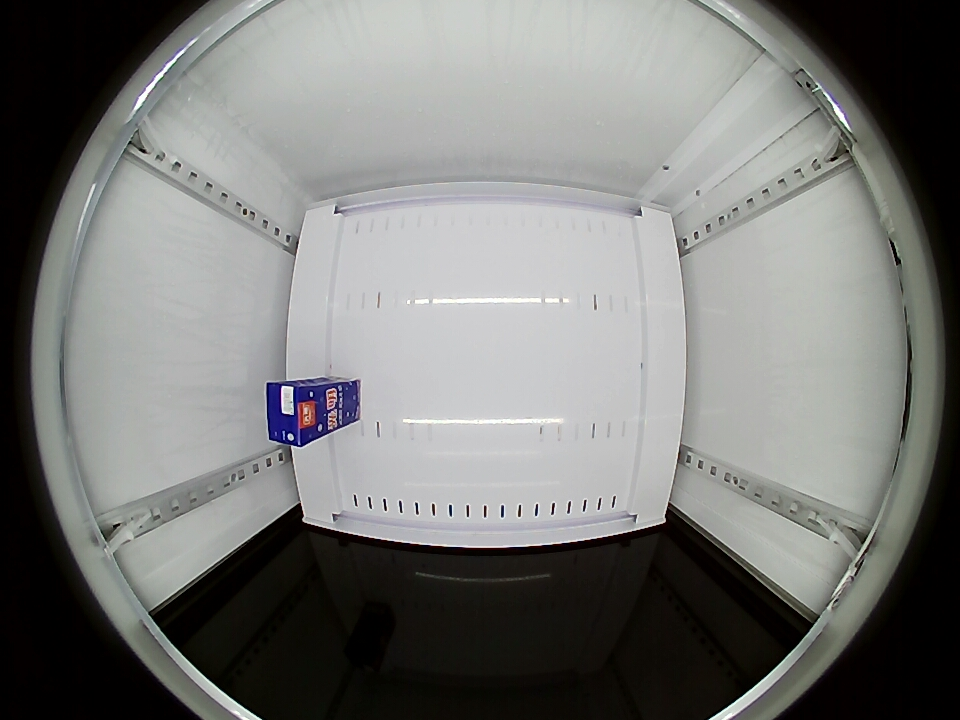bingqilinniunai: (266, 380, 327, 447)
